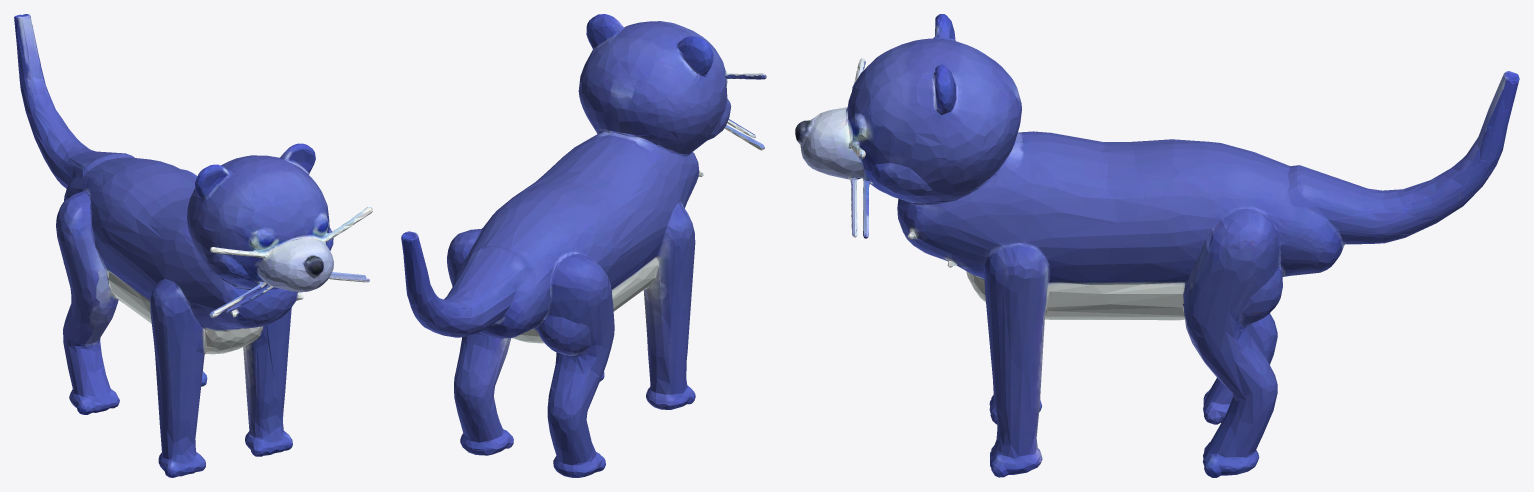
Rendered from creature-065.lod.glb.
3 views of the same model, side by side, from view 1: azimuth 30°, elevation 25°; view 2: azimuth 150°, elevation 25°; view 3: azimuth 270°, elevation 25° (orthographic). The views are drawn at different scales.
Visible parts, largest first — view 1: tmpra2uafq2.ply; view 2: tmpra2uafq2.ply; view 3: tmpra2uafq2.ply.
Part boxes in pixels (x1,y1,x2,y2): tmpra2uafq2.ply: (14, 14, 372, 477); tmpra2uafq2.ply: (401, 14, 766, 477); tmpra2uafq2.ply: (795, 14, 1519, 477).
Size of the model in its own units: 0.6366 by 1.22 by 1.99.
1 material, 1 textured.
